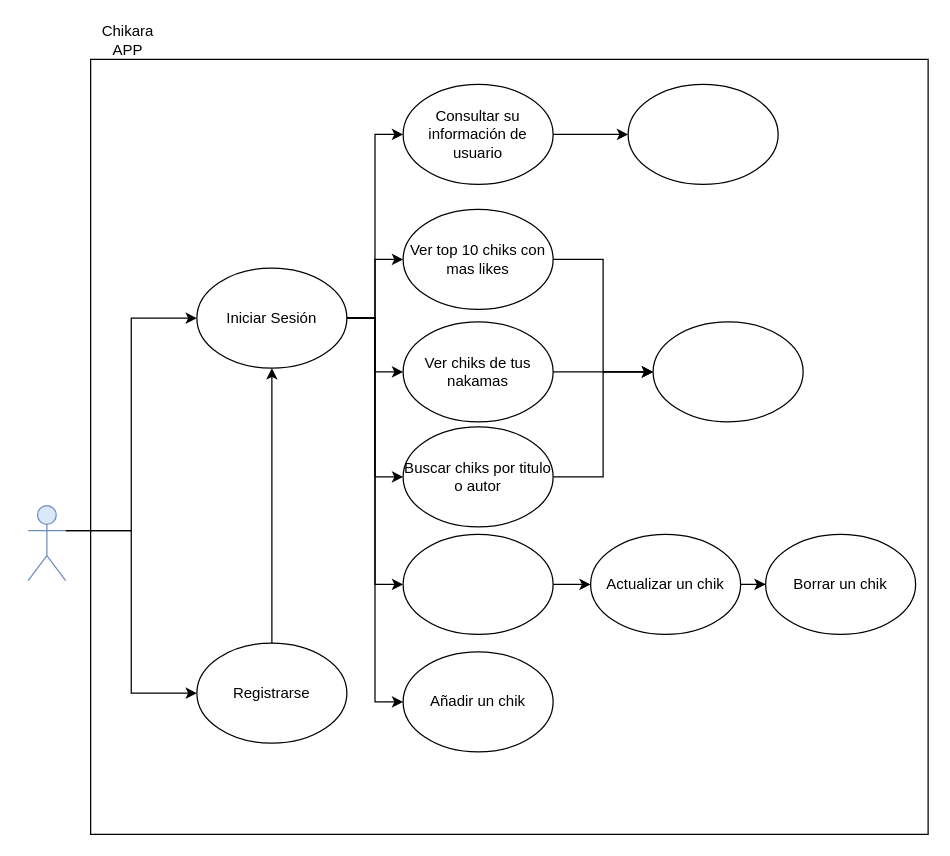
The diagram is 950 pixels wide and 856 high, and some of its shapes have lost their labels. The centre of each missing label's shape, as x and y in pixels:
"Añadir un nakama" goes at [702,133].
"Realizar un comentario" goes at [727,371].
"Usuario" goes at [46,542].
"Ver sus chiks" goes at [477,583].
